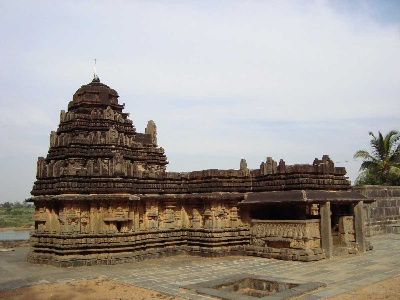mandapa: (234, 186, 377, 266)
